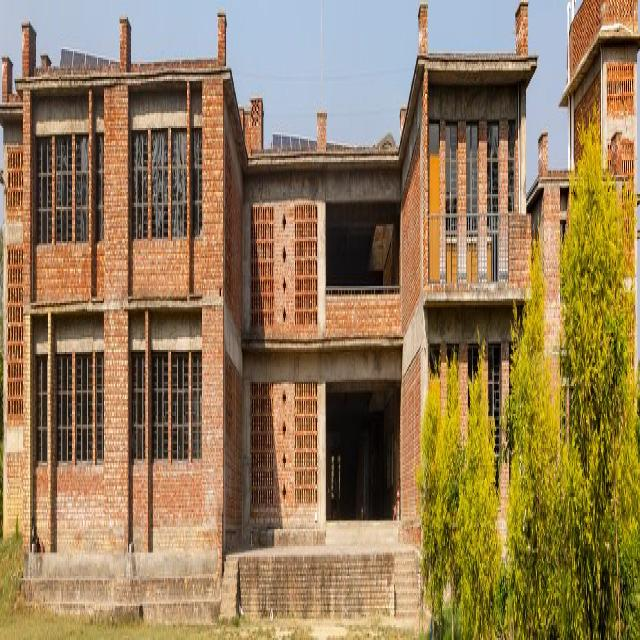Railing: (430, 212, 510, 278)
plant: (415, 124, 640, 638)
wall: (0, 0, 635, 601)
windows: (150, 136, 168, 242), (76, 360, 92, 471), (55, 144, 72, 248), (36, 142, 52, 248), (132, 140, 148, 246), (172, 361, 188, 467), (152, 358, 168, 463), (57, 359, 72, 469), (171, 137, 187, 240), (75, 140, 89, 250), (191, 359, 202, 471), (132, 361, 144, 463), (36, 359, 46, 469), (192, 137, 202, 244), (95, 144, 104, 246), (96, 360, 104, 466)
